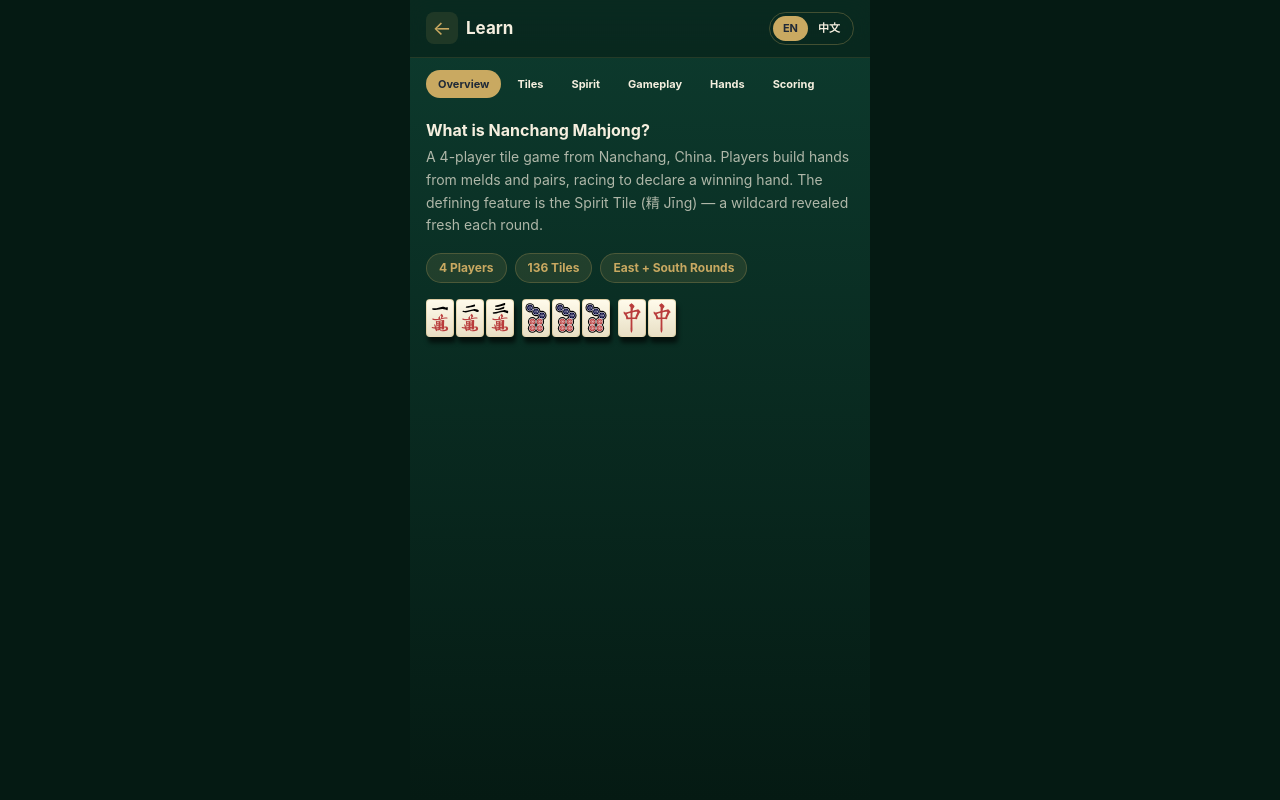
Test: LearnPage › Learn·examples-render — switching to Tiles tab renders tile suit content
The width and height of the screenshot is (1280, 800).
Step 1. Click the tab "Tiles" → (530,84), box 505,70 -> 555,98
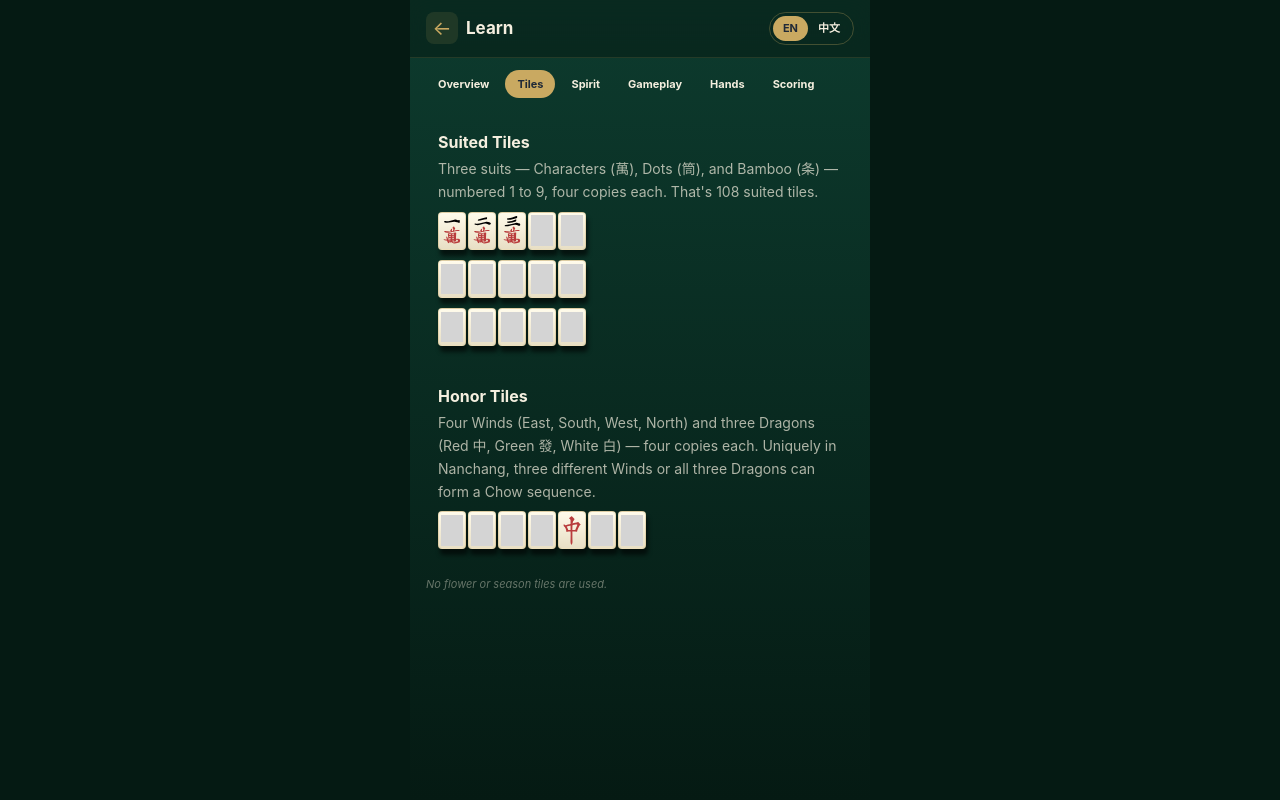
Check: the heading "Suited Tiles" is shown, box 438,132 -> 530,152
Check: the heading "Honor Tiles" is shown, box 438,386 -> 528,406
